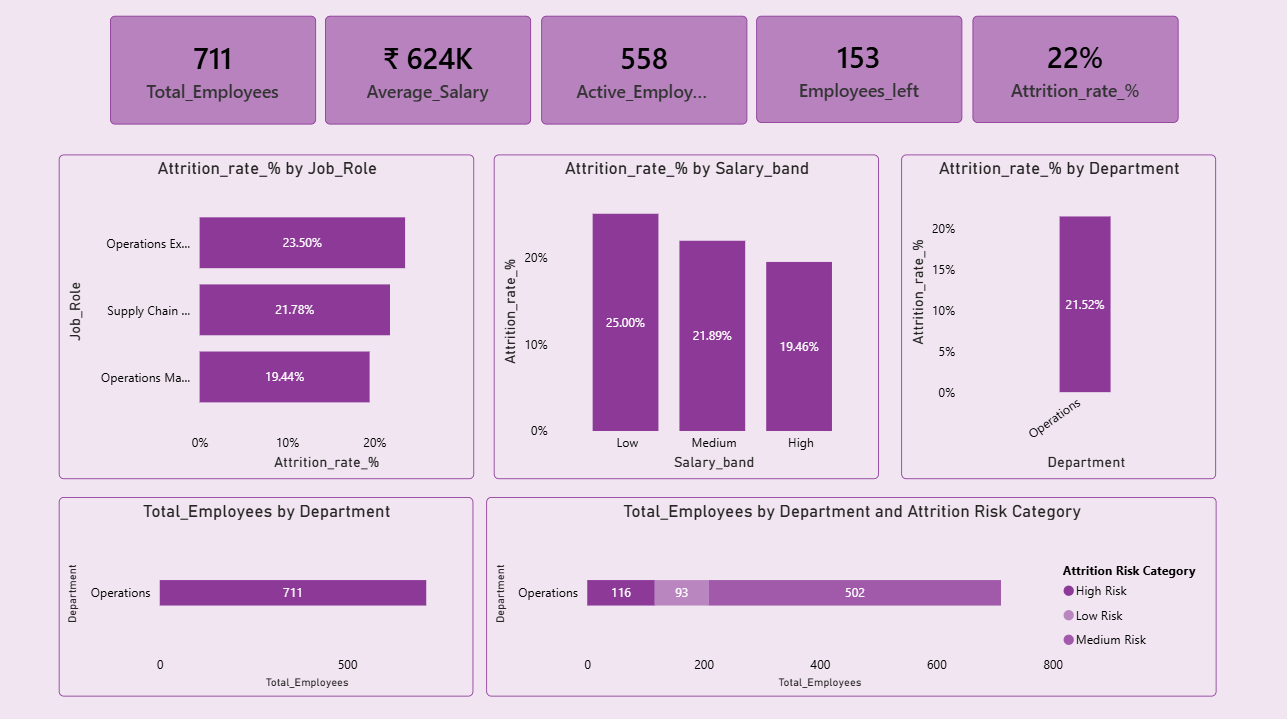

The page's visual inventory and layout, read from the dashboard file:
{"tool":"powerbi","page":{"name":"Department_Details","canvas":[1280,720],"ordinal":1},"visuals":[{"type":"cardVisual","fields":{"Data":["Measures_Table.Total_Employees"]},"box":[117,22.9,201.5,106.2],"z":0},{"type":"cardVisual","fields":{"Data":["Measures_Table.Average_Salary"]},"box":[328.2,22.9,201.5,106.2],"z":1000},{"type":"cardVisual","fields":{"Data":["Measures_Table.Employees_left"]},"box":[749.2,22.9,201.5,105],"z":2000},{"type":"barChart","fields":{"Category":["HR_Employee_Data.Job_Role"],"Y":["Measures_Table.Attrition_rate_%"]},"box":[67.6,159.3,406.6,317.3],"z":3000},{"type":"columnChart","fields":{"Y":["Measures_Table.Attrition_rate_%"],"Category":["HR_Employee_Data.Salary_band"]},"box":[492.2,159.3,376.4,317.3],"z":4000},{"type":"barChart","fields":{"Category":["HR_Employee_Data.Department"],"Y":["Measures_Table.Total_Employees"]},"box":[67.6,493.4,405.4,195.4],"z":5000},{"type":"clusteredColumnChart","fields":{"Y":["Measures_Table.Attrition_rate_%"],"Category":["HR_Employee_Data.Department"]},"box":[891.6,159.3,307.6,317.3],"z":6000},{"type":"cardVisual","fields":{"Data":["Measures_Table.Active_Employees"]},"box":[539.3,22.9,201.5,106.2],"z":7000},{"type":"cardVisual","fields":{"Data":["Measures_Table.Attrition_rate_%"]},"box":[961.5,22.9,201.5,105],"z":8000},{"type":"barChart","fields":{"Category":["HR_Employee_Data.Department"],"Series":["HR_Employee_Data.Attrition Risk Category"],"Y":["Measures_Table.Total_Employees"]},"box":[485,493.4,714.2,195.4],"z":9000}]}

Visuals, with their boxes in screenshot pixels (x1, y1, x2, y2), scaled from the page's 1280x720 canvas onto the 1287x719 screenshot:
cardVisual - Measures_Table.Total_Employees: bbox(118, 23, 320, 129)
cardVisual - Measures_Table.Average_Salary: bbox(330, 23, 533, 129)
cardVisual - Measures_Table.Employees_left: bbox(753, 23, 956, 128)
barChart - HR_Employee_Data.Job_Role x Measures_Table.Attrition_rate_%: bbox(68, 159, 477, 476)
columnChart - Measures_Table.Attrition_rate_% x HR_Employee_Data.Salary_band: bbox(495, 159, 873, 476)
barChart - HR_Employee_Data.Department x Measures_Table.Total_Employees: bbox(68, 493, 476, 688)
clusteredColumnChart - Measures_Table.Attrition_rate_% x HR_Employee_Data.Department: bbox(896, 159, 1206, 476)
cardVisual - Measures_Table.Active_Employees: bbox(542, 23, 745, 129)
cardVisual - Measures_Table.Attrition_rate_%: bbox(967, 23, 1169, 128)
barChart - HR_Employee_Data.Department x HR_Employee_Data.Attrition Risk Category: bbox(488, 493, 1206, 688)
